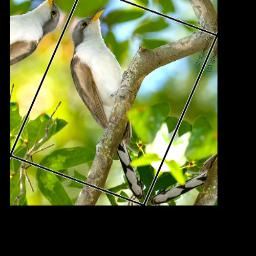Cuckoo: (17, 0, 211, 203)
